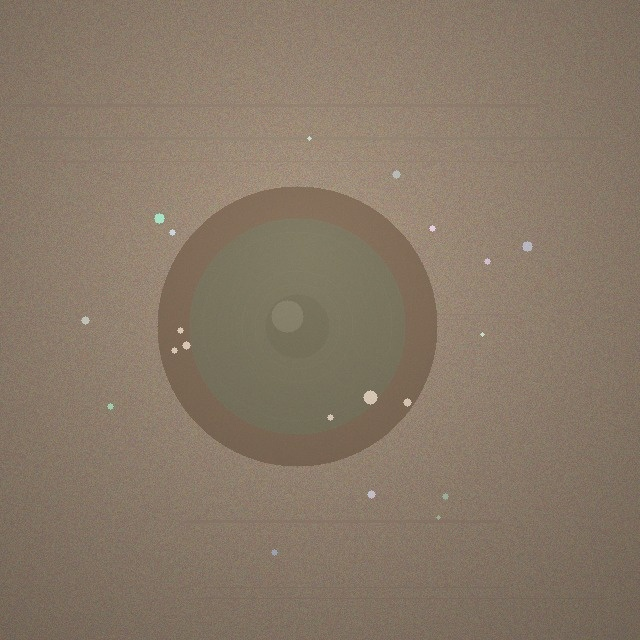overburn: (157, 186, 437, 466)
